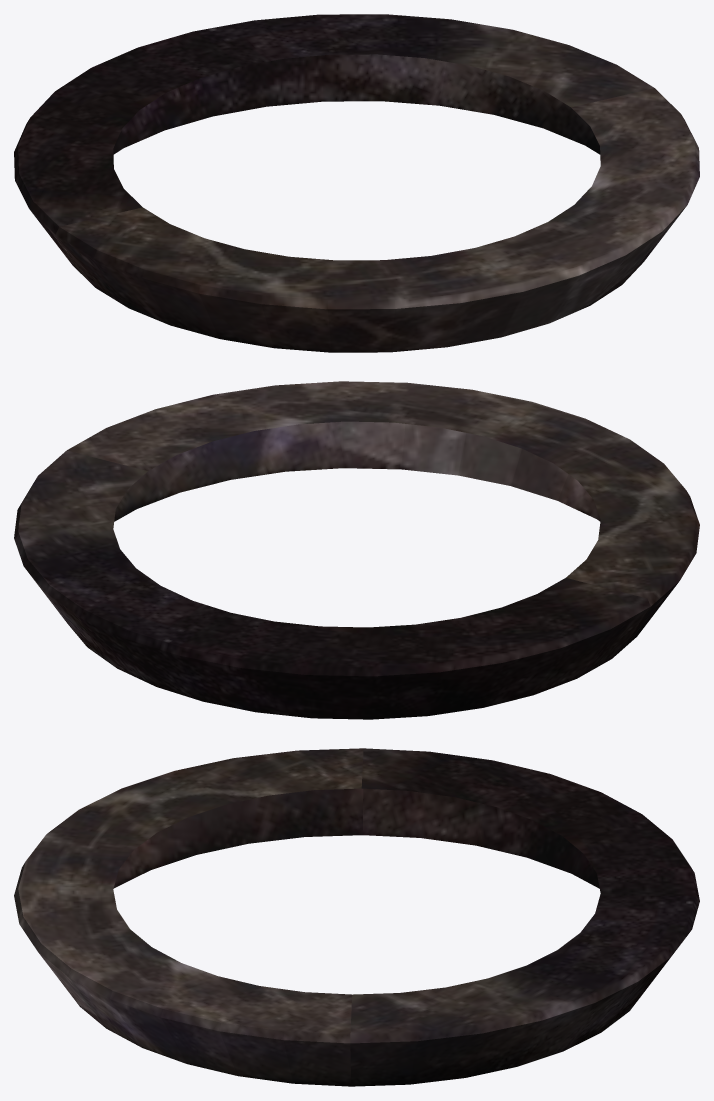
Rendered from world_map_basement_marble.glb.
The picture shows the model from 3 angles, top to bottom: view 1: azimuth 30°, elevation 25°; view 2: azimuth 150°, elevation 25°; view 3: azimuth 270°, elevation 25°; orthographic projection.
Visible parts, largest first — view 1: world_map_basement_marble; view 2: world_map_basement_marble; view 3: world_map_basement_marble.
Boxes of the visible parts, box(x1,y1,x2,y2) form: world_map_basement_marble: box(14, 14, 699, 352); world_map_basement_marble: box(14, 381, 699, 719); world_map_basement_marble: box(14, 748, 699, 1086).
Bounding box in the file's own units: 1.68 × 0.1872 × 1.68.
Materials: 1 (1 with a texture image).
